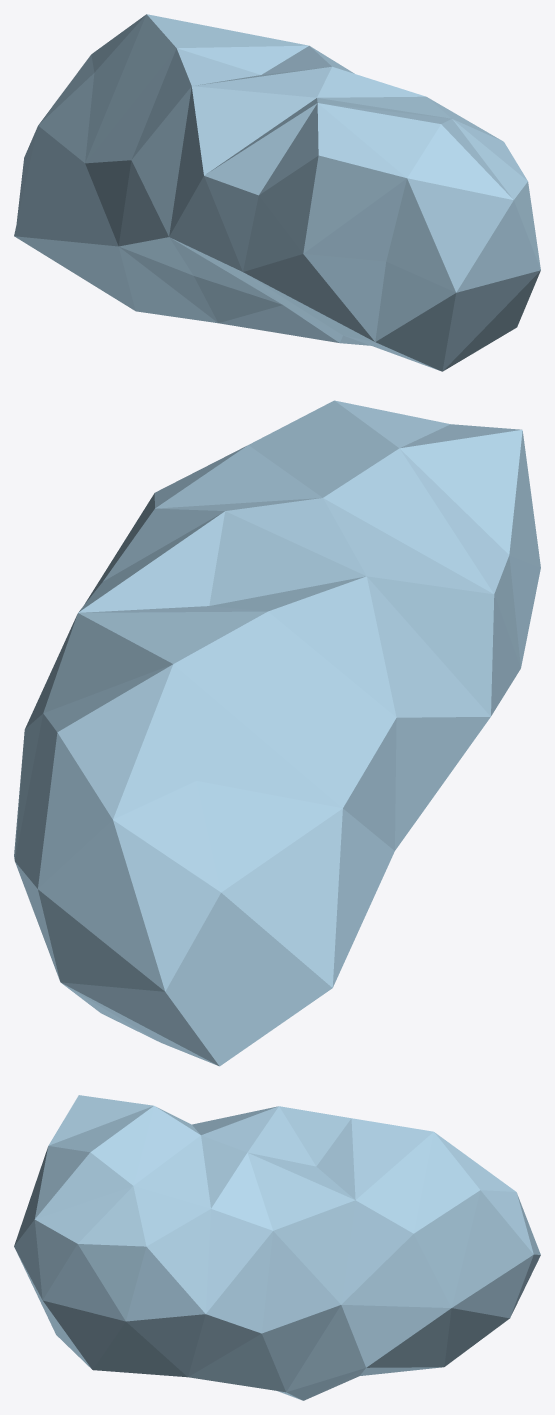
File: cloud.fbx
3 views of the same model, one above another, from view 1: azimuth 30°, elevation 25°; view 2: azimuth 150°, elevation 25°; view 3: azimuth 270°, elevation 25° (orthographic). The views are drawn at different scales.
Visible parts, largest first — view 1: Icosphere.003; view 2: Icosphere.003; view 3: Icosphere.003.
Part boxes in pixels (x1,y1,x2,y2): Icosphere.003: (14, 14, 540, 371); Icosphere.003: (14, 400, 540, 1066); Icosphere.003: (14, 1095, 540, 1400).
Bounding box in the file's own units: 316 × 288 × 522.
